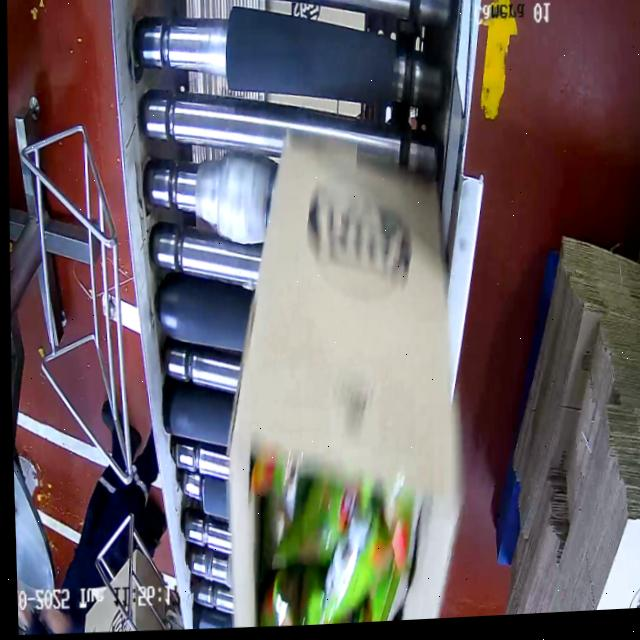YOGURT_HERB: (248, 447, 416, 628)
